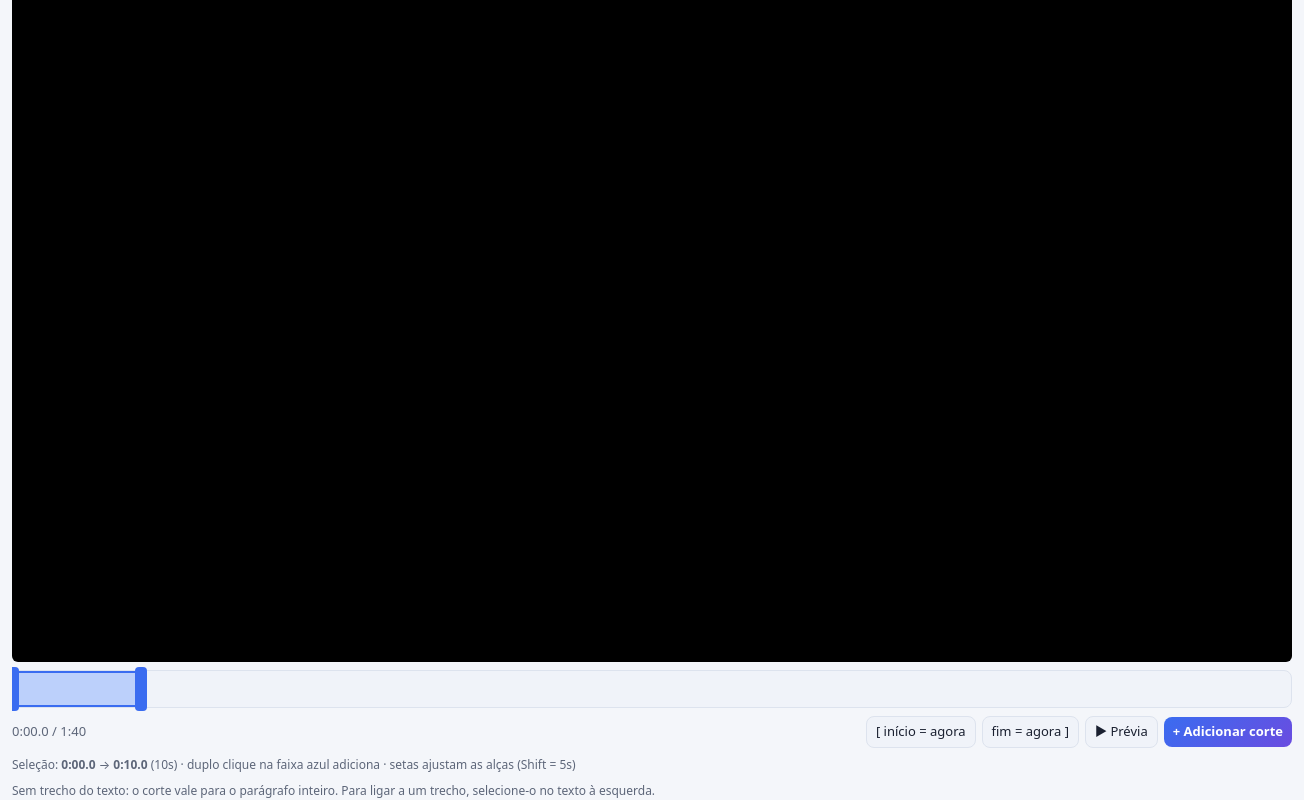
Scenario: mostra erro do servidor ao adicionar
This screenshot has width=1304, height=800.
(page scrolled)
Click the button "+ Adicionar corte": {"x": 1228, "y": 732} [1164,717,1292,746]
(page scrolled)
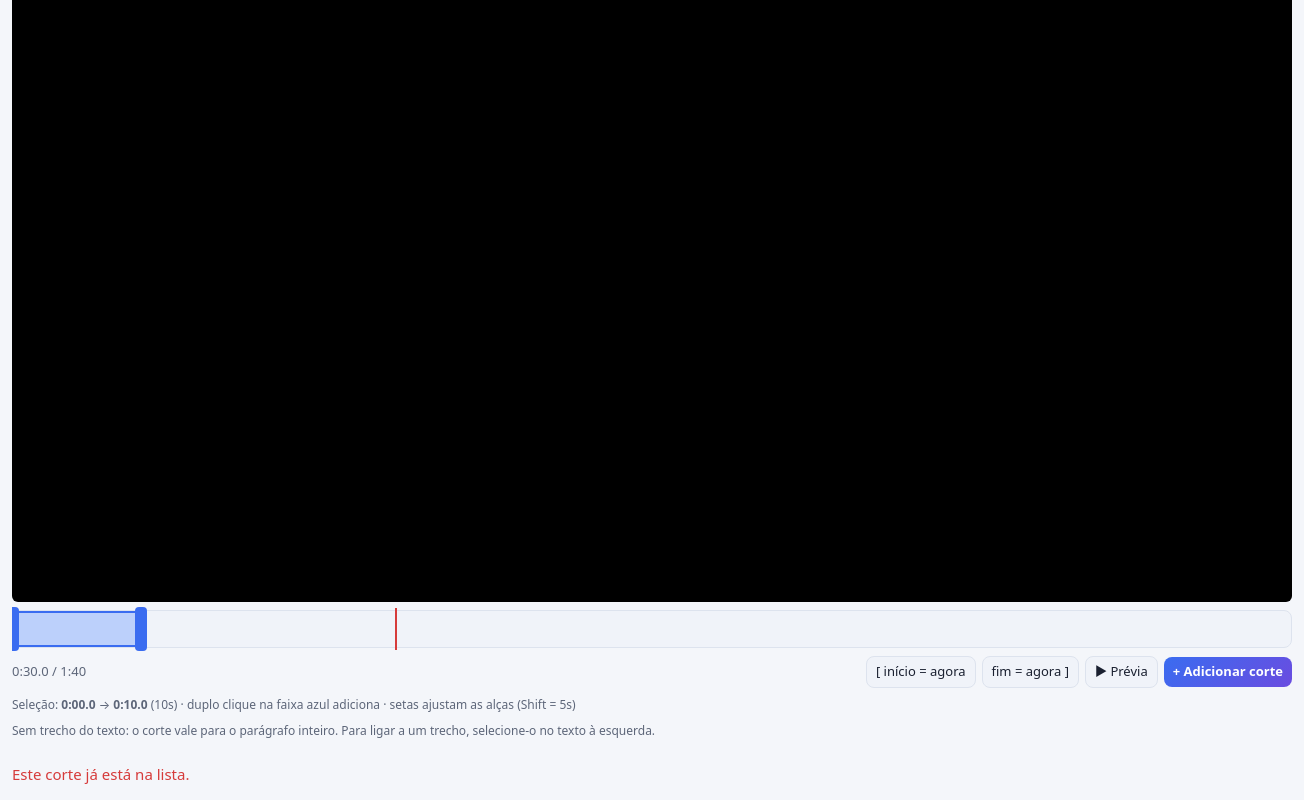
Check: the text "Este corte já está na lista." is shown, box [12,764,190,784]
